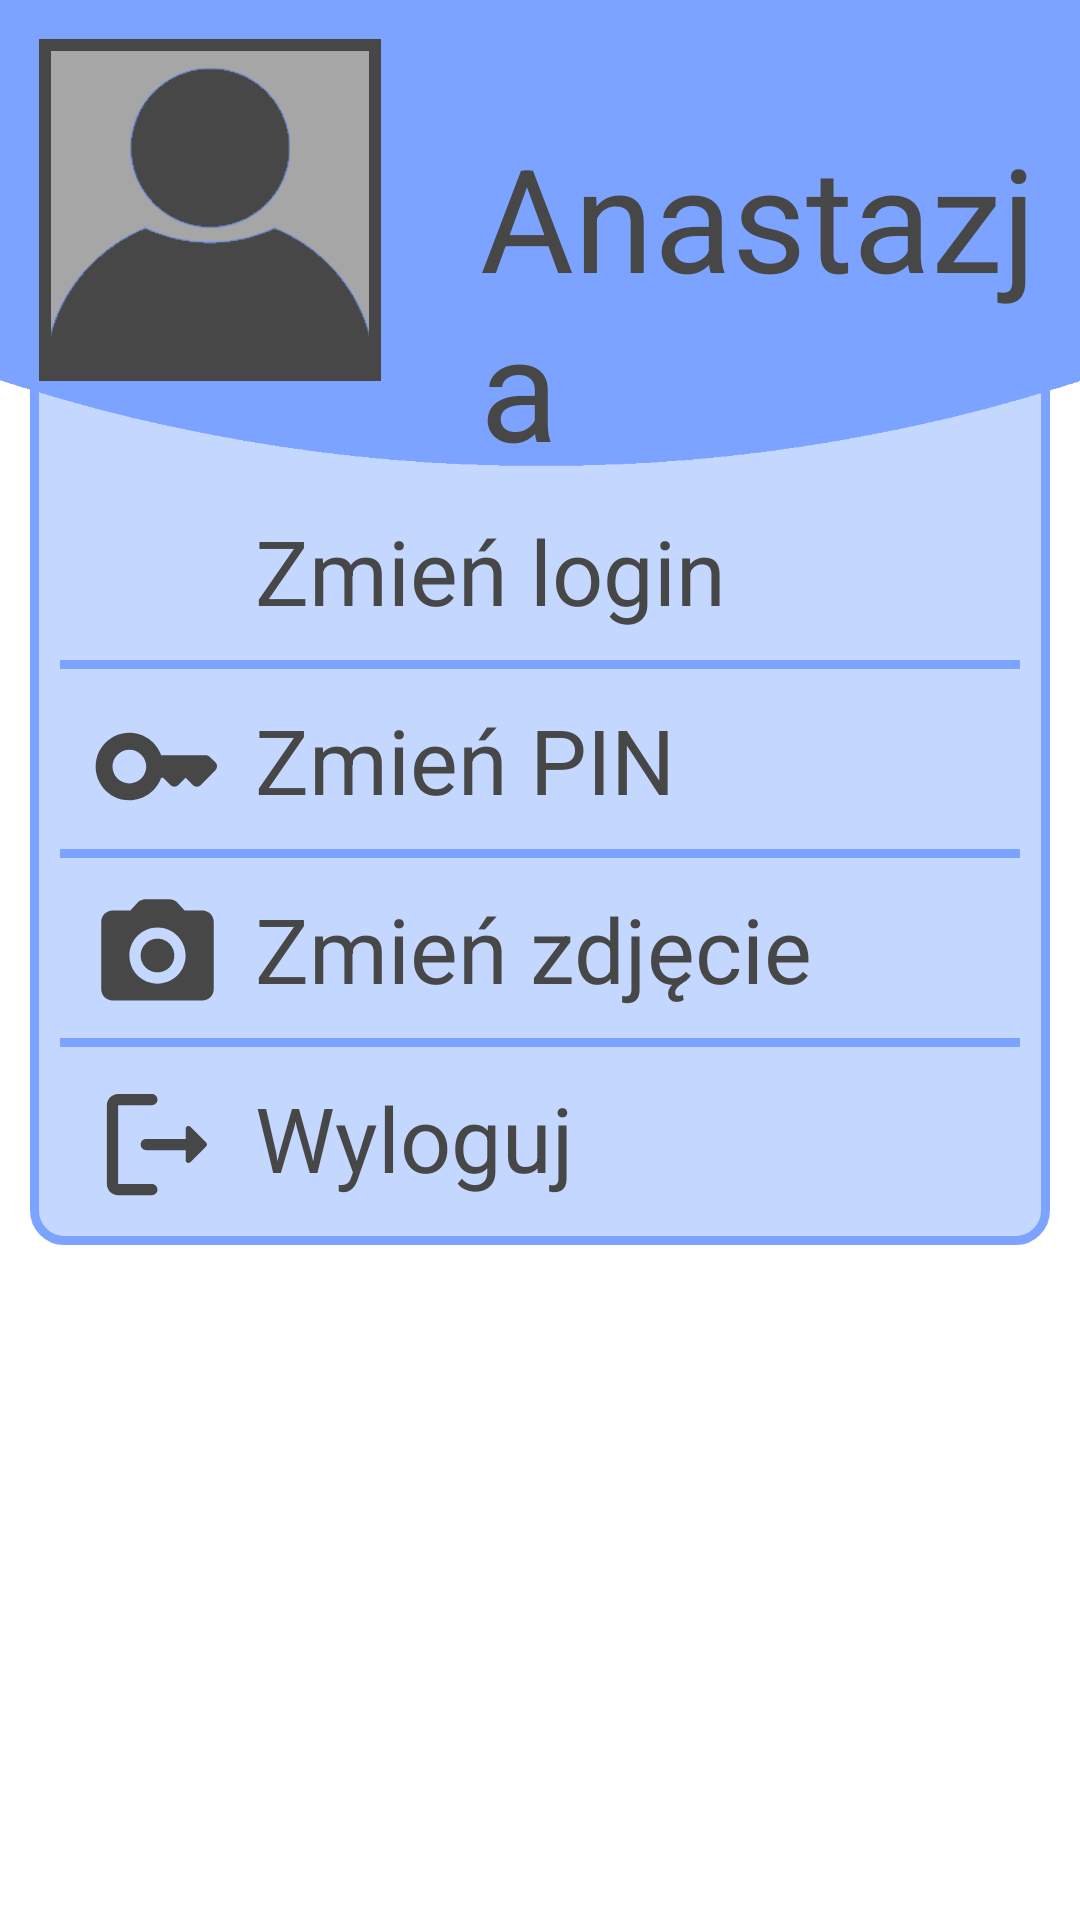

Named icons in this screenshot (1080x1920) and their bounding boxes, (x1, y1, x2, y2):
change photo: (101, 899, 214, 1001)
change pin: (95, 732, 217, 801)
no photo user: (39, 39, 381, 381)
